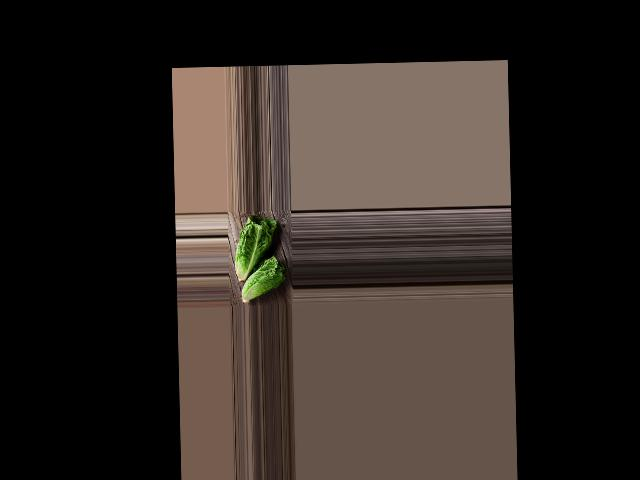lettuce: (238, 254, 290, 306)
